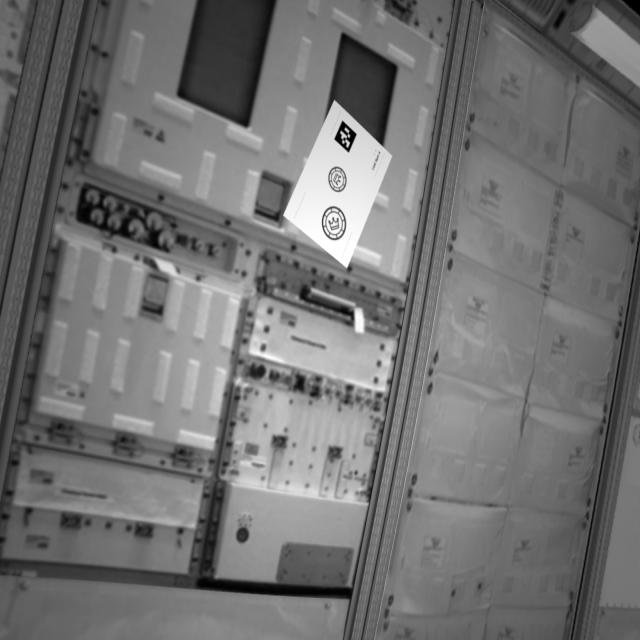coin: (318, 204, 351, 246), (324, 163, 351, 199)
